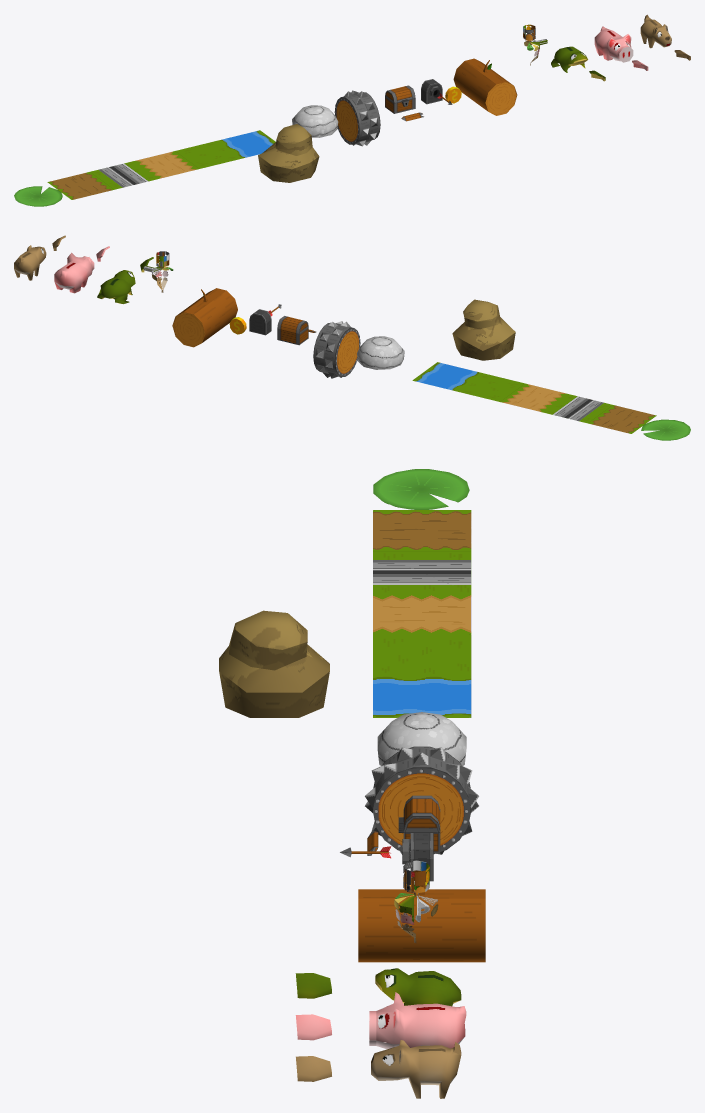
Rendered from Models.FBX.
3 views of the same model, one above another, from view 1: azimuth 30°, elevation 25°; view 2: azimuth 150°, elevation 25°; view 3: azimuth 270°, elevation 25° (orthographic). The views are drawn at different scales.
Parts seen in each view (by area): view 1: Rock, Log, Roller, Blob, TileSaw, TileGrass, TileRoad, TileRoad2, Pig, TileRiver, LilyPad, Chest (+4 smaller); view 2: Rock, Log, Roller, Blob, TileRoad, TileSaw, TileRiver, TileGrass, TileRoad2, Pig, Frog, LilyPad (+4 smaller); view 3: Rock, Log, Roller, TileSaw, TileRoad, TileRoad2, TileGrass, Pig, TileRiver, Dog, LilyPad, Blob (+4 smaller).
Boxes of the visible parts, <box> form: Rock: <box>258,124,319,182</box>; Log: <box>453,58,517,115</box>; Roller: <box>334,90,380,146</box>; Blob: <box>292,105,338,137</box>; TileSaw: <box>90,161,156,189</box>; TileGrass: <box>175,140,241,168</box>; TileRoad: <box>133,151,198,179</box>; TileRoad2: <box>47,172,113,199</box>; Pig: <box>594,26,633,62</box>; TileRiver: <box>218,130,275,158</box>; LilyPad: <box>14,186,62,206</box>; Chest: <box>385,85,415,113</box>; Rock: <box>452,299,515,360</box>; Log: <box>172,288,237,347</box>; Roller: <box>313,321,360,378</box>; Blob: <box>357,336,404,369</box>; TileRoad: <box>500,383,568,412</box>; TileSaw: <box>544,394,612,423</box>; TileRiver: <box>412,362,480,391</box>; TileGrass: <box>456,373,524,401</box>; TileRoad2: <box>588,405,656,433</box>; Pig: <box>54,252,94,293</box>; Frog: <box>97,270,135,304</box>; LilyPad: <box>641,419,690,440</box>; Rock: <box>219,610,329,717</box>; Log: <box>358,882,485,962</box>; Roller: <box>365,746,478,854</box>; TileSaw: <box>373,551,471,593</box>; TileRoad: <box>373,593,471,634</box>; TileRoad2: <box>373,510,471,551</box>; TileGrass: <box>373,635,471,676</box>; Pig: <box>369,992,466,1049</box>; TileRiver: <box>373,676,471,717</box>; Dog: <box>371,1040,461,1098</box>; LilyPad: <box>373,469,469,509</box>; Blob: <box>377,712,466,765</box>.
Size of the model in its own units: 3040 by 346 by 543.
Materials: 1 (1 with a texture image).
